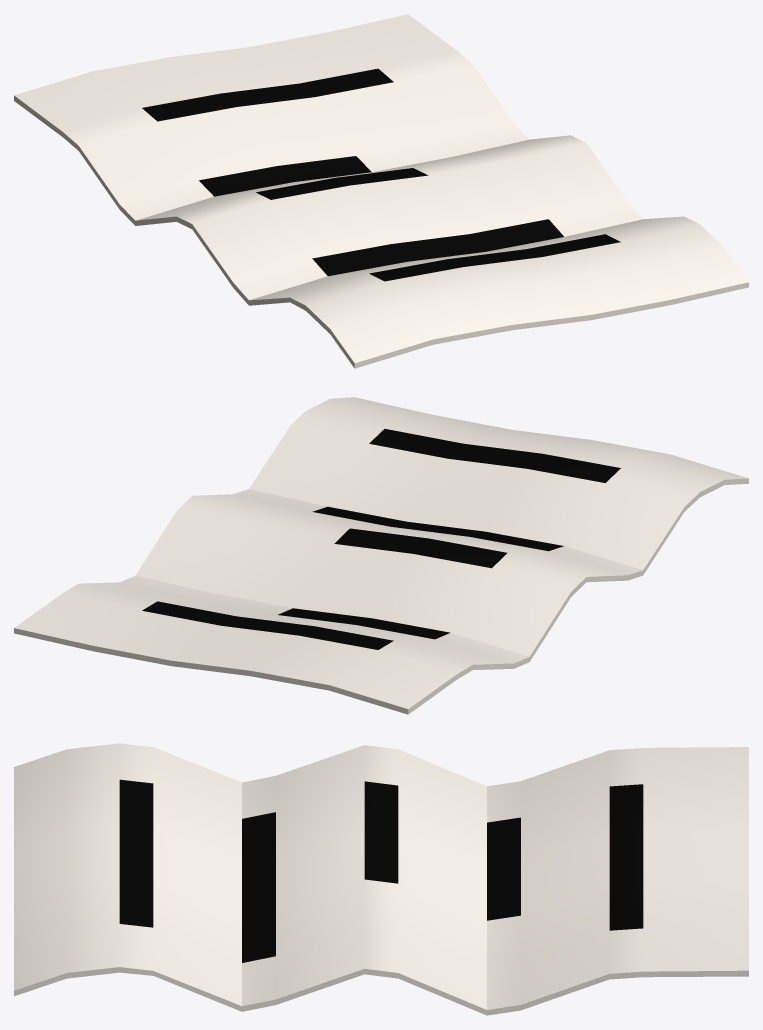
File: PaperParticle.fbx
3 renders of one model, top to bottom at view 1: azimuth 30°, elevation 25°; view 2: azimuth 150°, elevation 25°; view 3: azimuth 270°, elevation 25°, orthographic. The views are drawn at different scales.
Visible parts, largest first — view 1: PaperParticle; view 2: PaperParticle; view 3: PaperParticle.
Part boxes in pixels (box(x1,y1,x2,y2)): PaperParticle: box(14, 14, 748, 368); PaperParticle: box(14, 397, 748, 714); PaperParticle: box(14, 743, 748, 1015).
Size of the model in its own units: 57.58 by 9.06 by 86.19.
